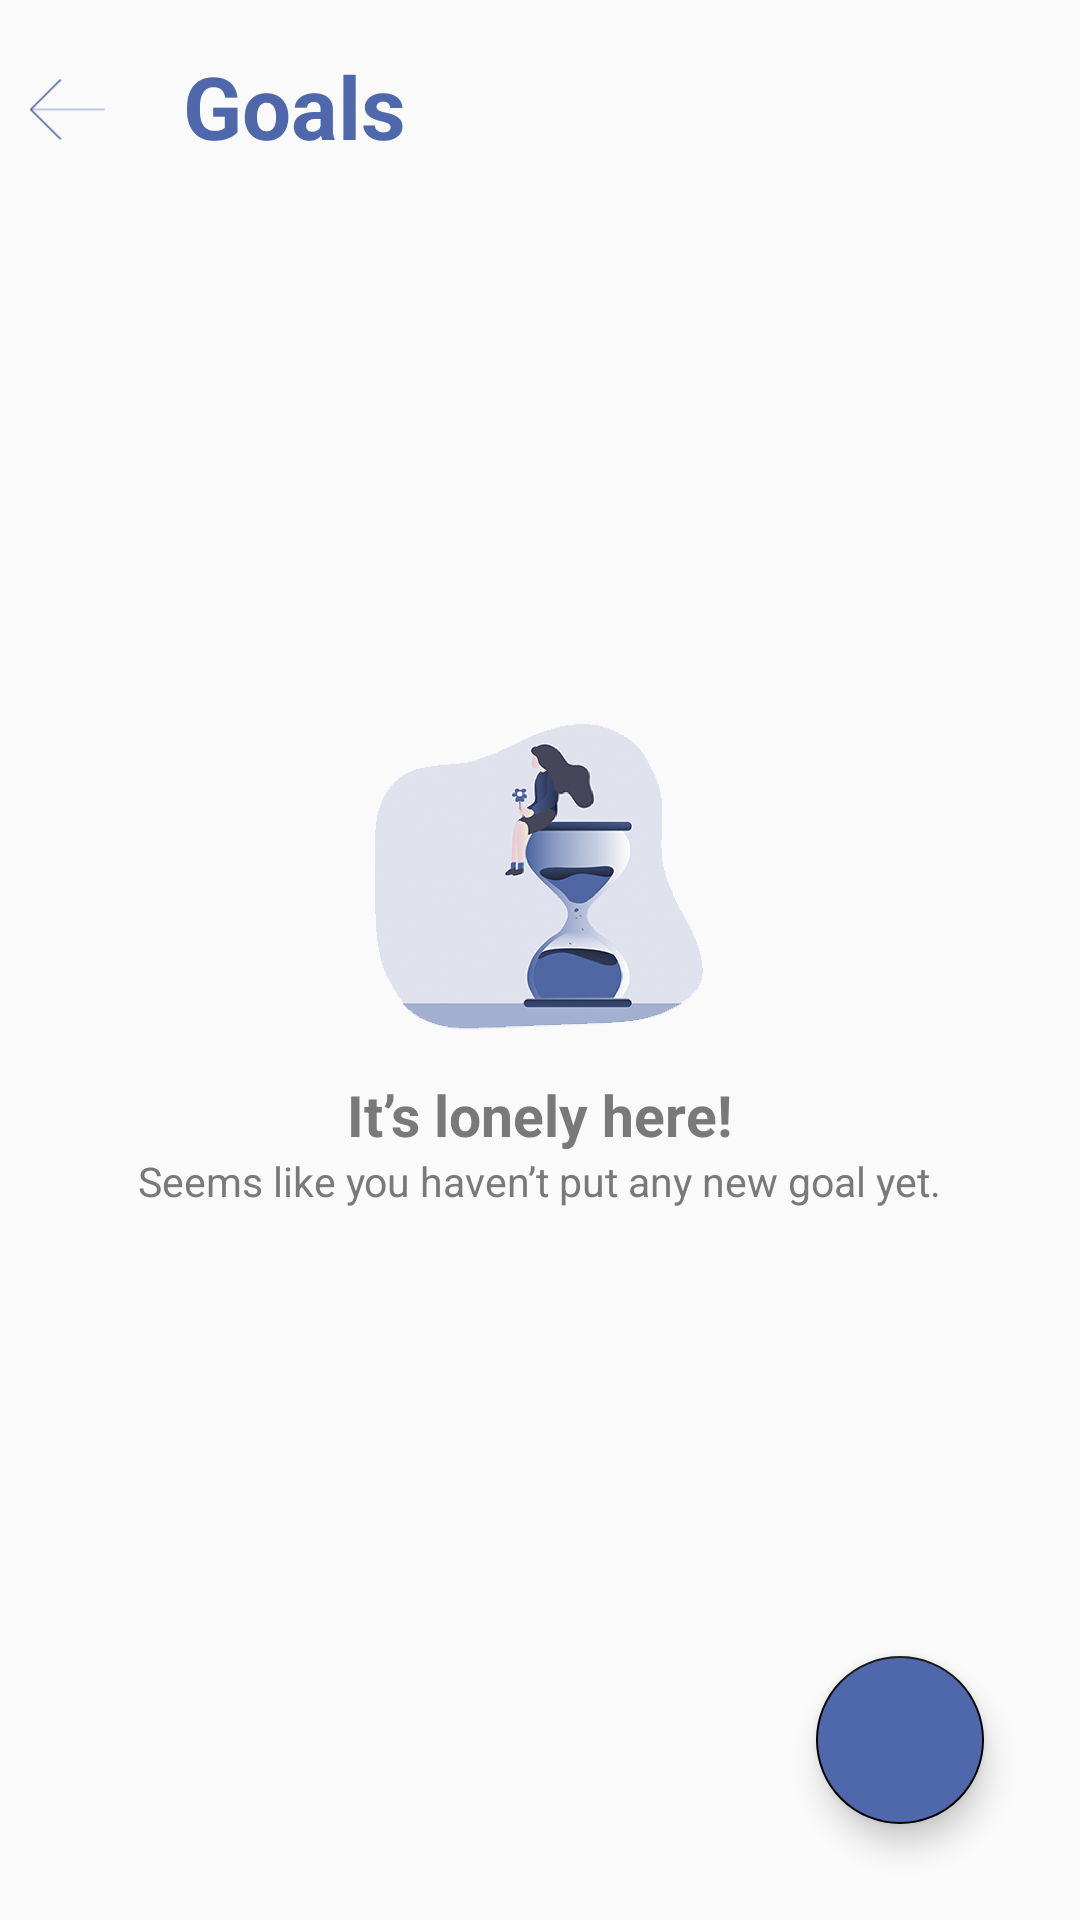

Screen size 1080×1920. Icon name, then its box in pixels as (x1, y1, x2, y2):
bluearrow: (30, 79, 105, 140)
soon: (375, 724, 703, 1029)
